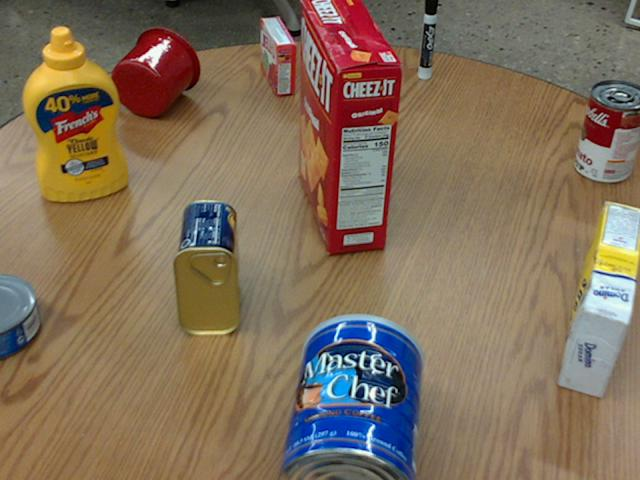cracker_box: (295, 0, 401, 252)
gelatin_box: (261, 17, 297, 95)
large_marker: (417, 0, 438, 77)
master_chef_can: (277, 313, 423, 479)
mug: (111, 26, 199, 116)
mustard_bottle: (23, 26, 126, 200)
potted_meat_can: (172, 198, 237, 334)
sugar_box: (559, 202, 639, 398)
tomato_soup_can: (573, 81, 639, 183)
tuna_fish_can: (0, 272, 39, 355)
